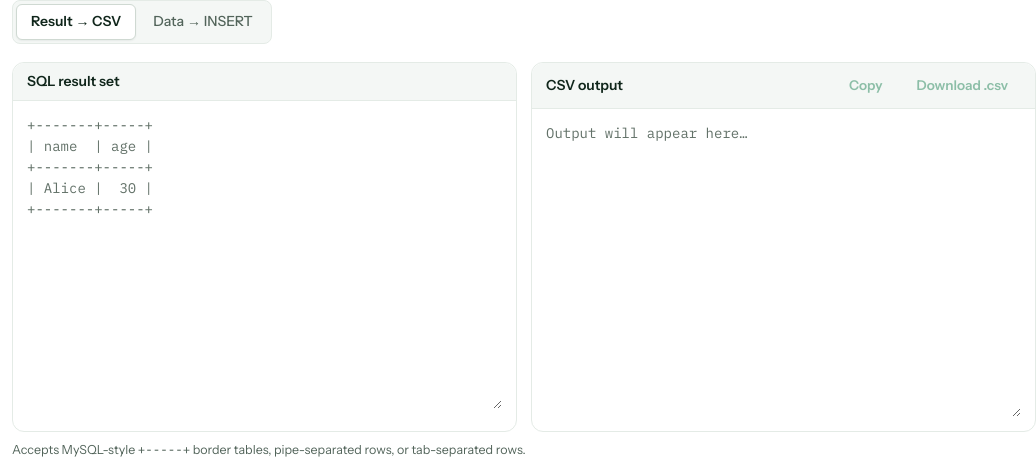
Test: SqlToCsv — Result → CSV mode › shows an error when input cannot be parsed as a result set
Replace the text in the text box with placeholder "+-------" with "random text that is not a table" at [264, 262], box [27,115,502,409]
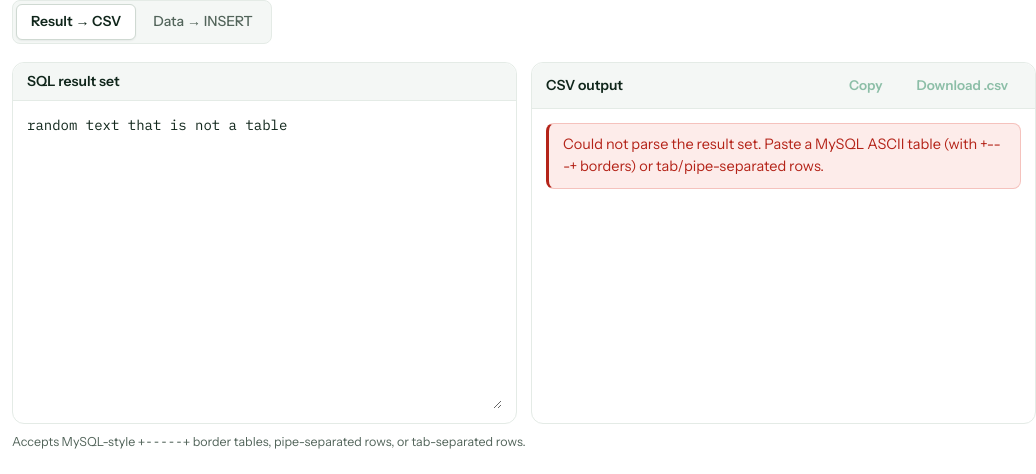
Result: the text "Could not parse" is shown at [563,135,1001,175]
